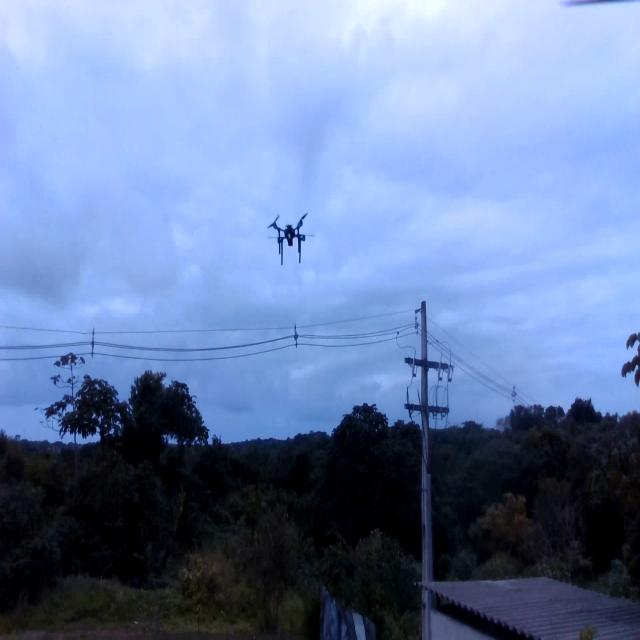-uav-: (262, 203, 318, 270)
